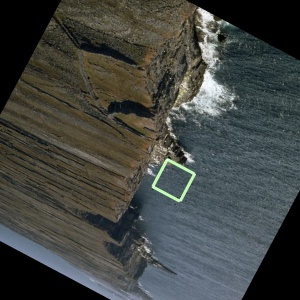square: (151, 157, 198, 204)
